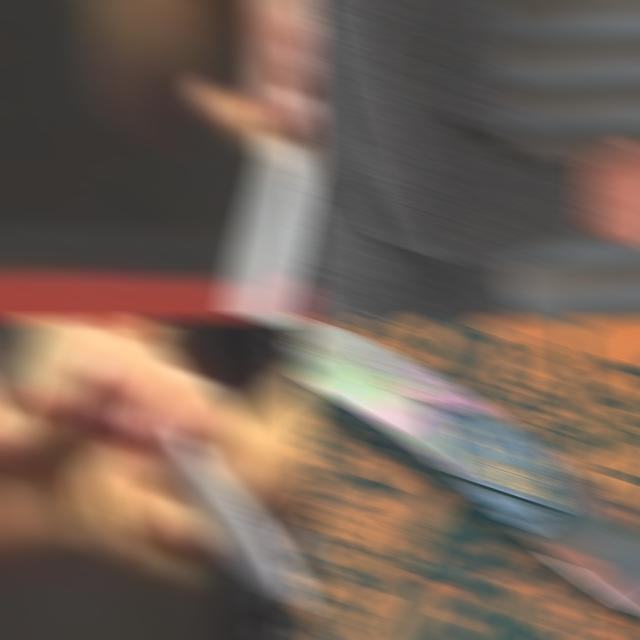Knife: (166, 428, 306, 606)
Knife_Handle: (75, 331, 307, 605), (224, 0, 315, 322), (582, 88, 640, 252)
